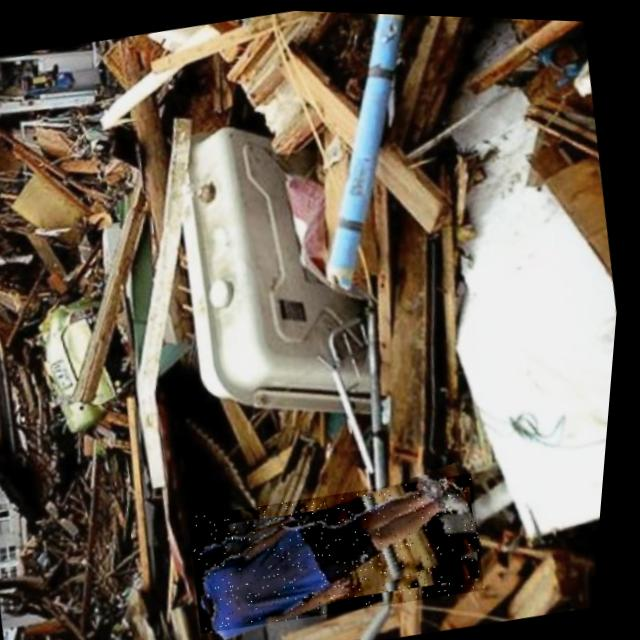Person in Rubble: (190, 460, 501, 639)
